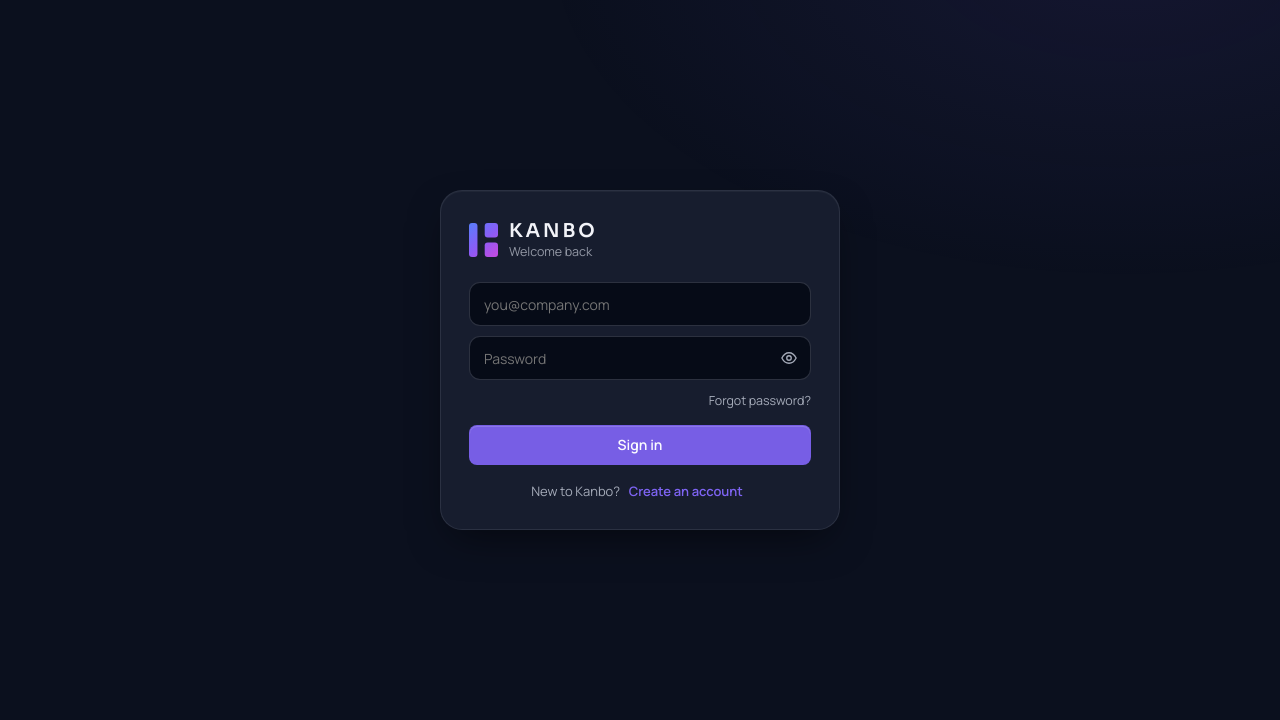
LoginScreen › shows friendly sign-in errors
The image size is (1280, 720).
In the field named "Email": [640, 304] box [469,282,811,326], type "sam@company.com"
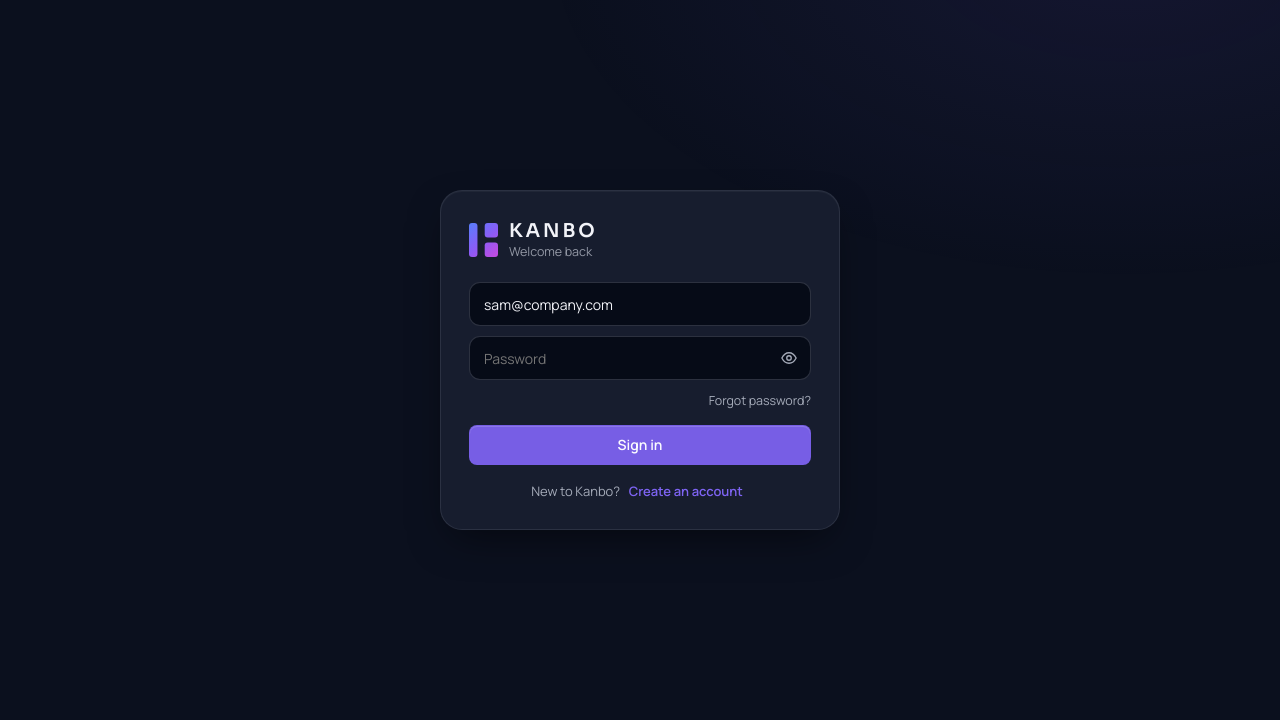
In the password field labelled "Password": [640, 358] box [469,336,811,380], type "x"
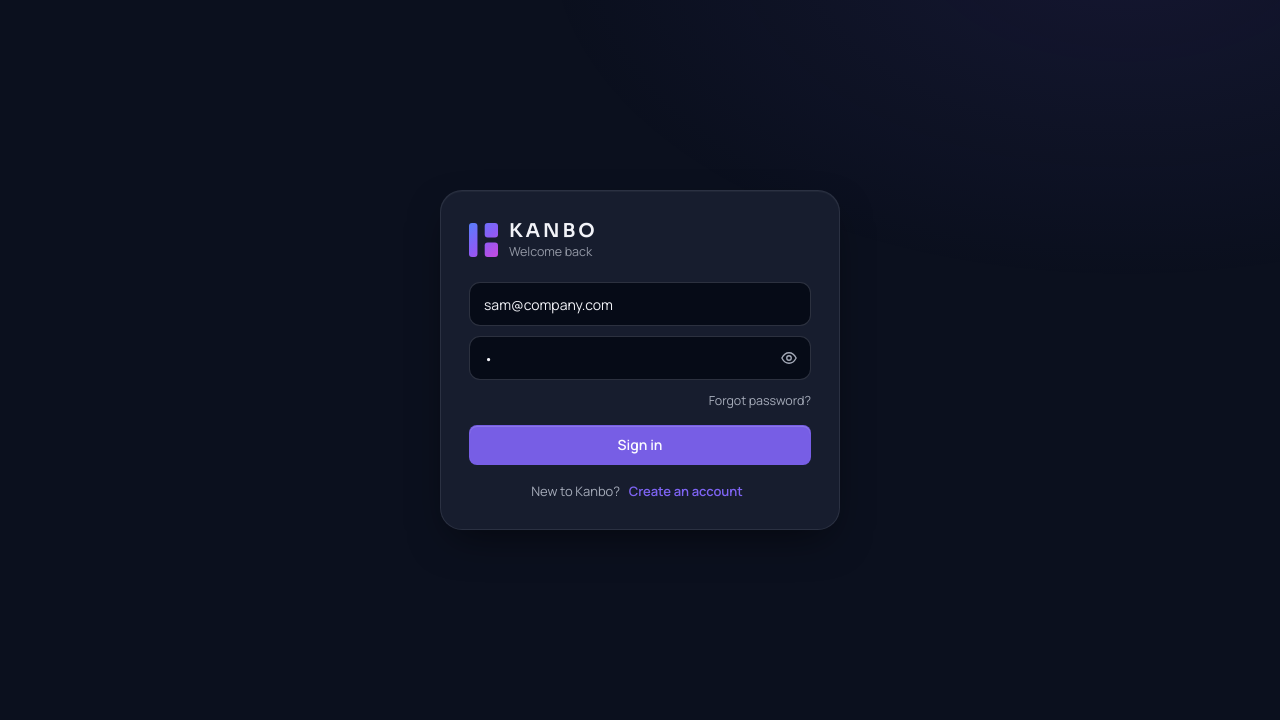
Click the button "Sign in": [640, 445] box [469,425,811,465]
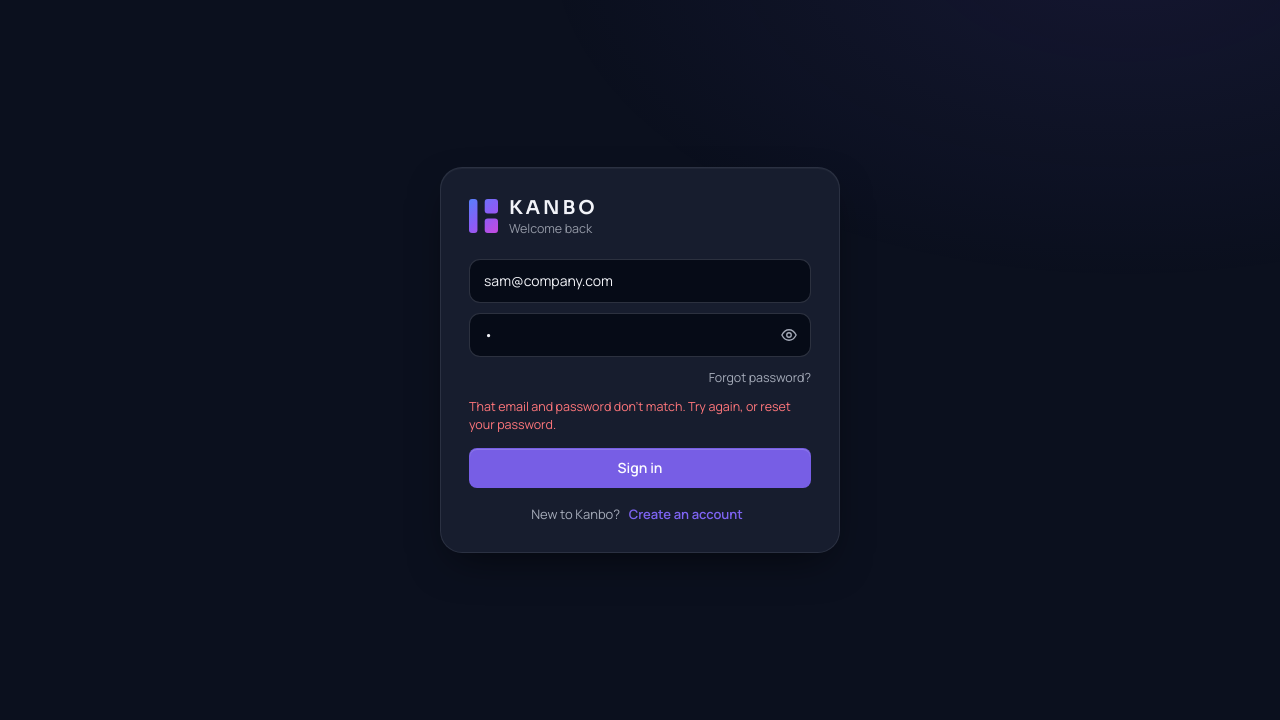
Check: the message shows "don’t match", box [469,398,791,433]
